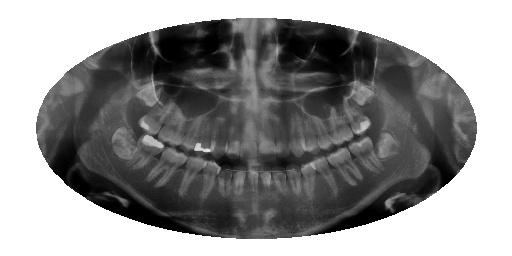i10healthy: (232, 160, 248, 214)
i11healthy: (212, 164, 234, 207)
i12healthy: (199, 155, 223, 207)
i13healthy: (171, 151, 208, 203)
i14healthy: (144, 144, 188, 195)
i15healthy: (120, 132, 167, 173)
i16healthy: (105, 123, 142, 162)
i1healthy: (368, 123, 404, 164)
i2healthy: (346, 134, 383, 176)
i3healthy: (321, 145, 367, 187)
i4healthy: (307, 155, 344, 196)
i5healthy: (299, 158, 319, 200)
i6healthy: (281, 163, 308, 211)
i7healthy: (269, 161, 289, 204)
i8healthy: (255, 162, 275, 216)
i9healthy: (241, 159, 263, 212)
u10decay: (220, 102, 246, 163)
u11healthy: (206, 98, 230, 159)
u12healthy: (193, 112, 215, 157)
u13healthy: (180, 107, 205, 154)
u14healthy: (157, 95, 188, 146)
u15healthy: (139, 84, 177, 137)
u16healthy: (129, 73, 166, 108)
u1healthy: (342, 72, 377, 111)
u2healthy: (335, 93, 378, 137)
u3healthy: (321, 100, 357, 148)
u4healthy: (309, 112, 337, 153)
u5healthy: (298, 111, 322, 157)
u6healthy: (283, 109, 308, 160)
u7healthy: (270, 109, 291, 162)
u8decay: (253, 106, 280, 163)
u9decay: (238, 108, 261, 166)
